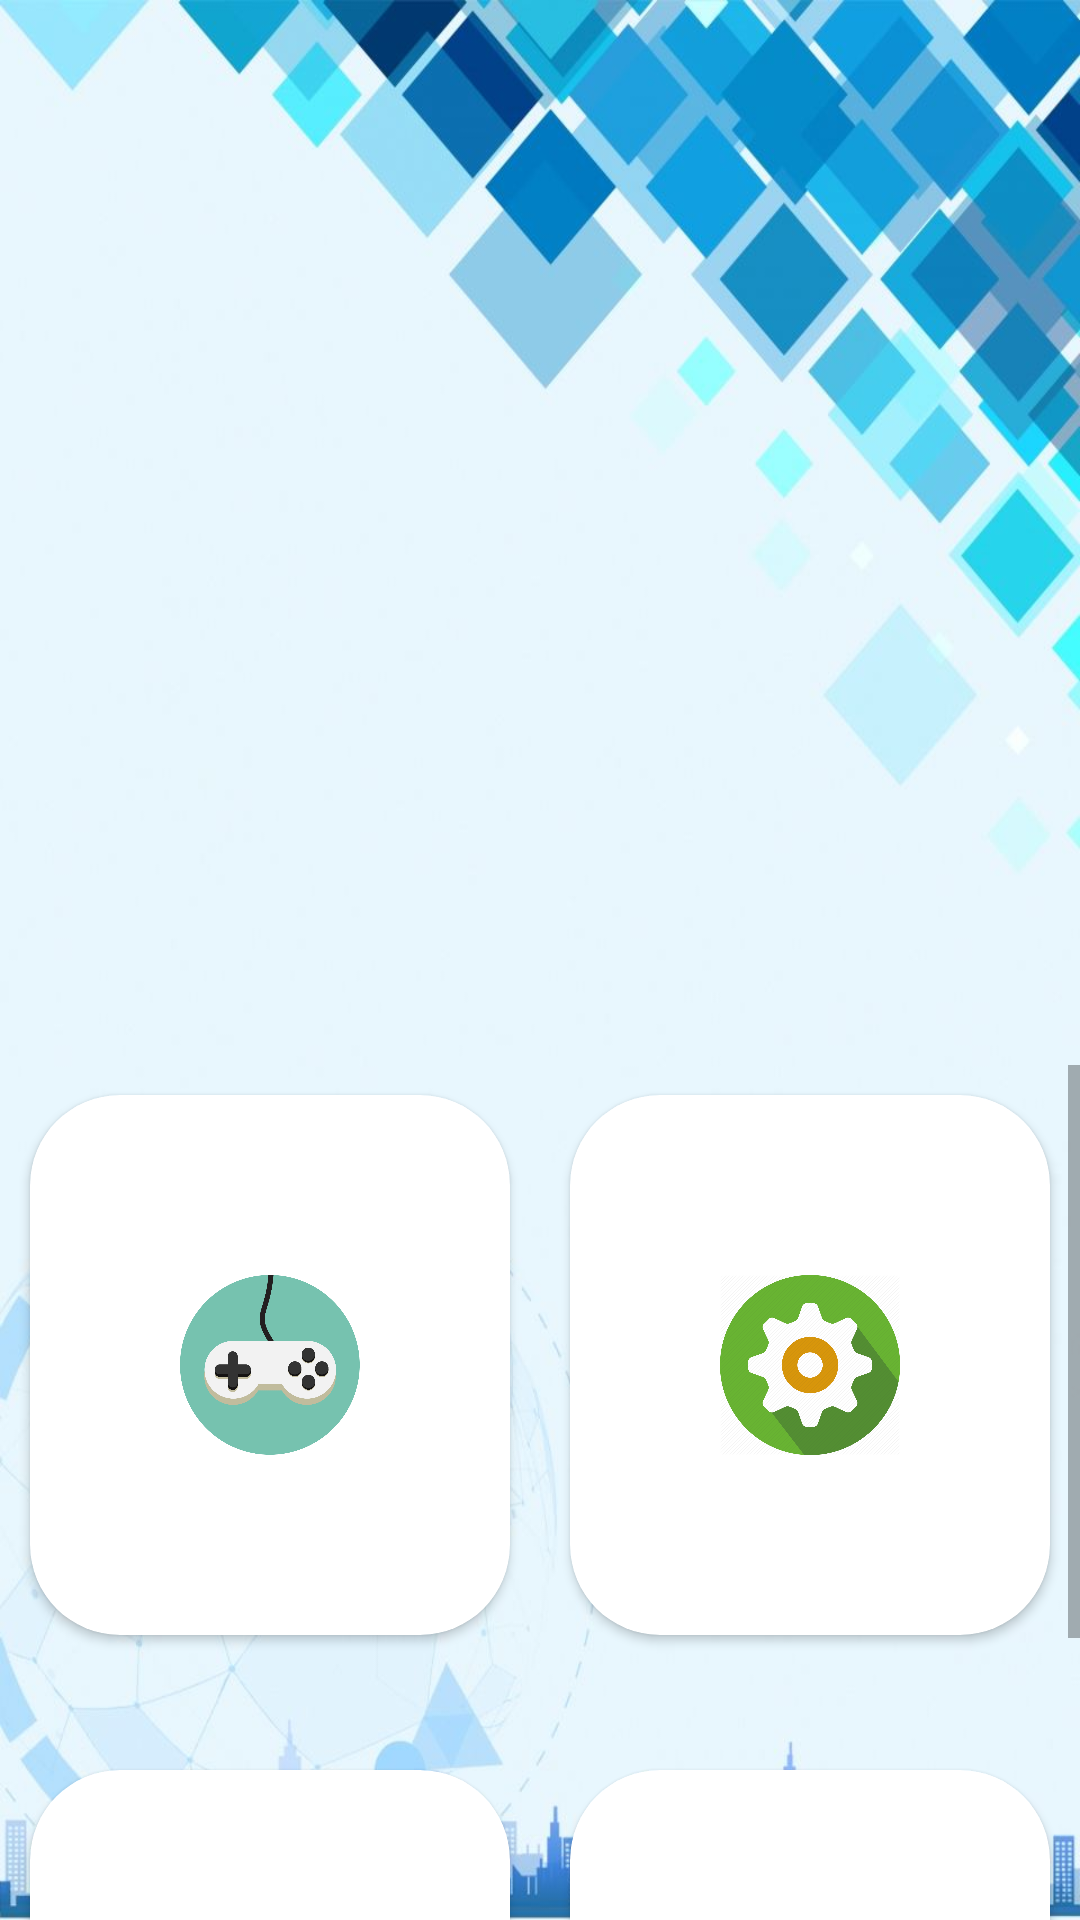

Screen size 1080w x 1920h. Icon name, then its center in pixels as [x,y]:
caidat: [810,1365]
game: [270,1365]
